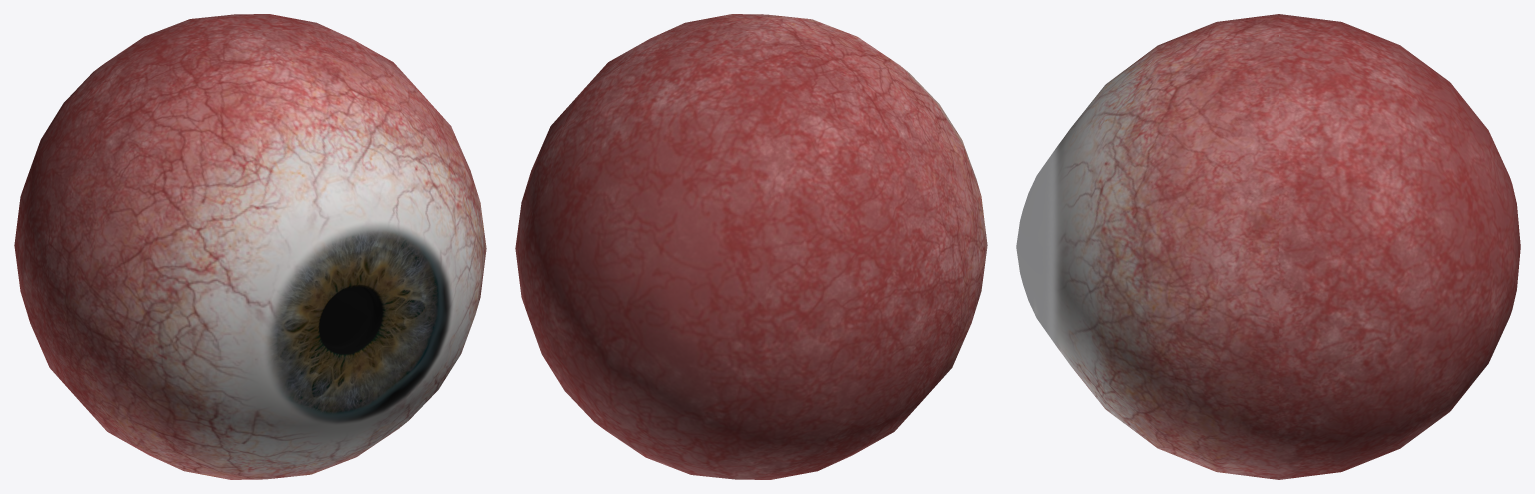
The model's file is eyeball.gltf.
The picture shows the model from 3 angles, left to right: view 1: azimuth 30°, elevation 25°; view 2: azimuth 150°, elevation 25°; view 3: azimuth 270°, elevation 25°; orthographic projection.
Parts seen in each view (by area): view 1: low_2; view 2: low_2; view 3: low_2.
Boxes of the visible parts, x1,y1,x2,y2 form: low_2: (14, 14, 486, 479); low_2: (515, 14, 987, 479); low_2: (1016, 14, 1520, 479).
Bounding box in the file's own units: 1.85 × 1.85 × 2.
1 material, 1 textured.
